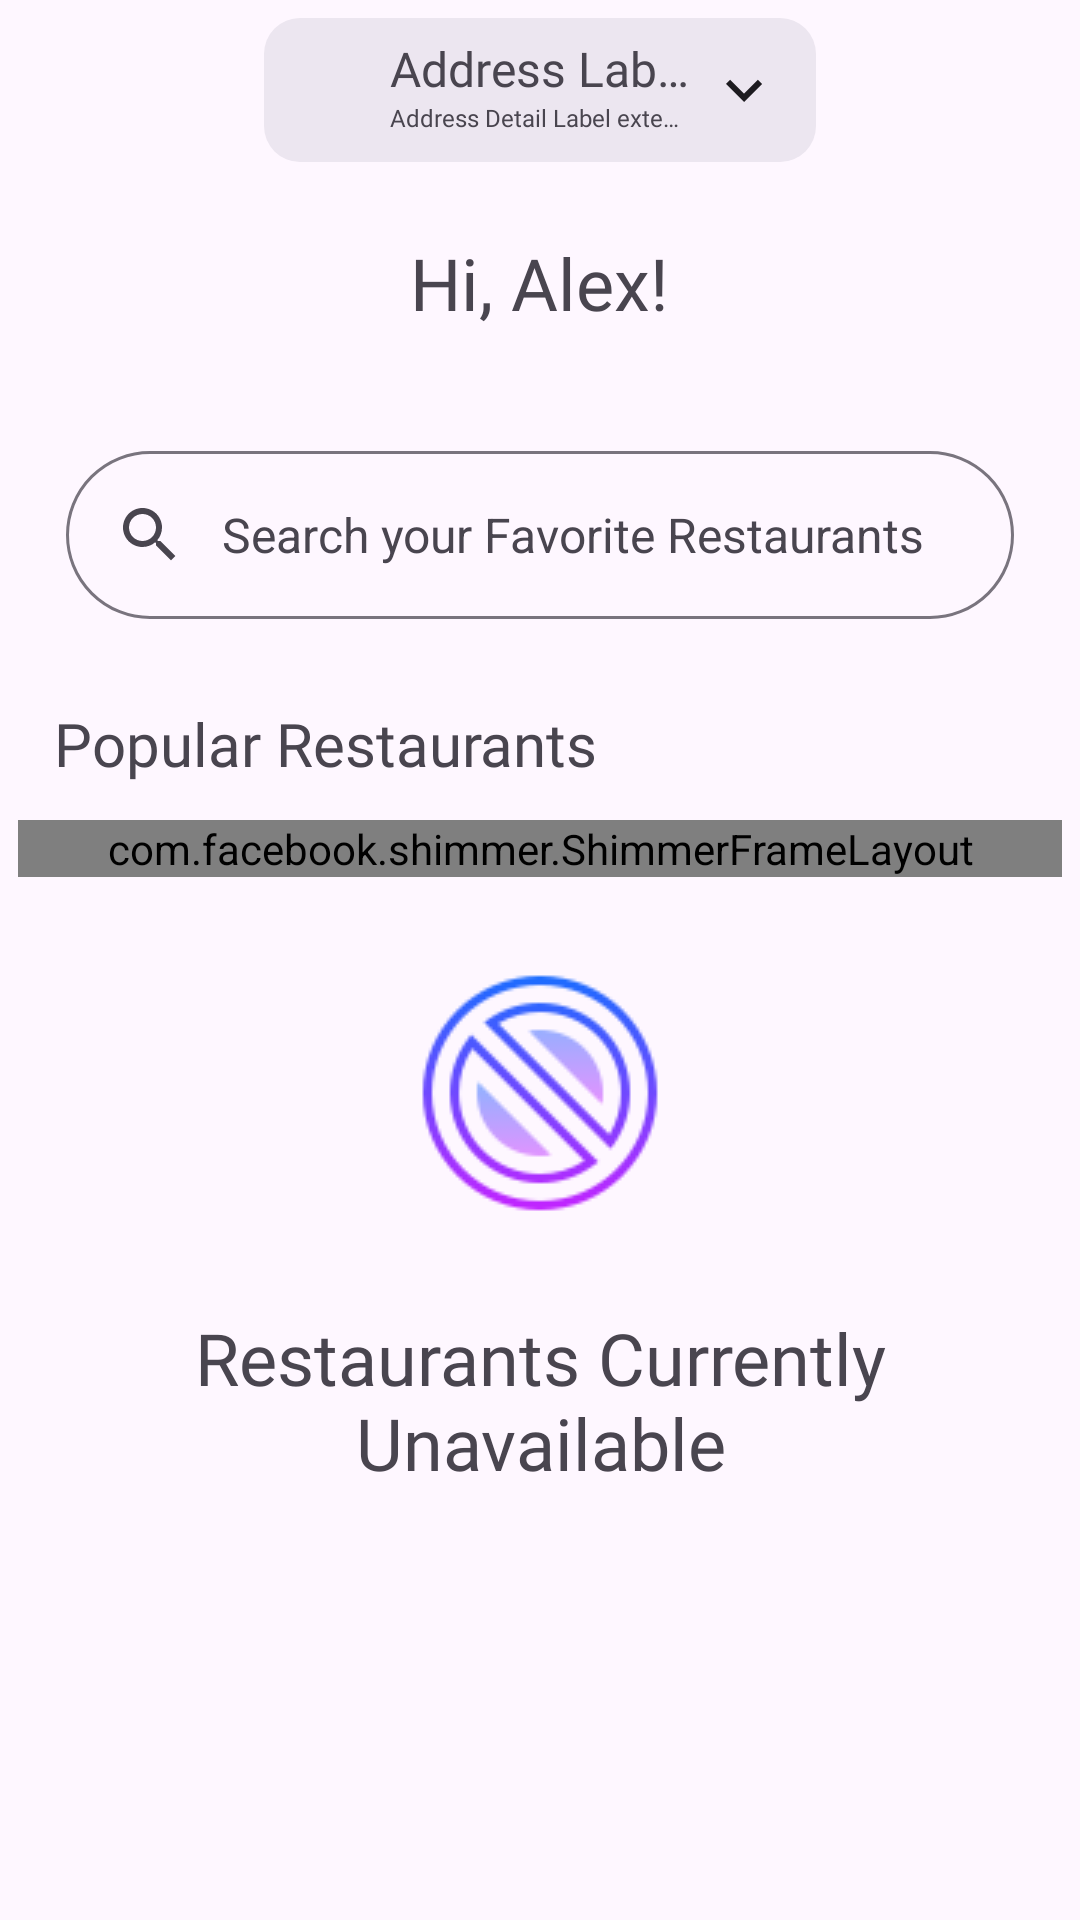

Icons on this 1080 × 1920 Android screen, each with the point to tap as (x=x, y=y):
keyboard arrow down: (x=744, y=91)
